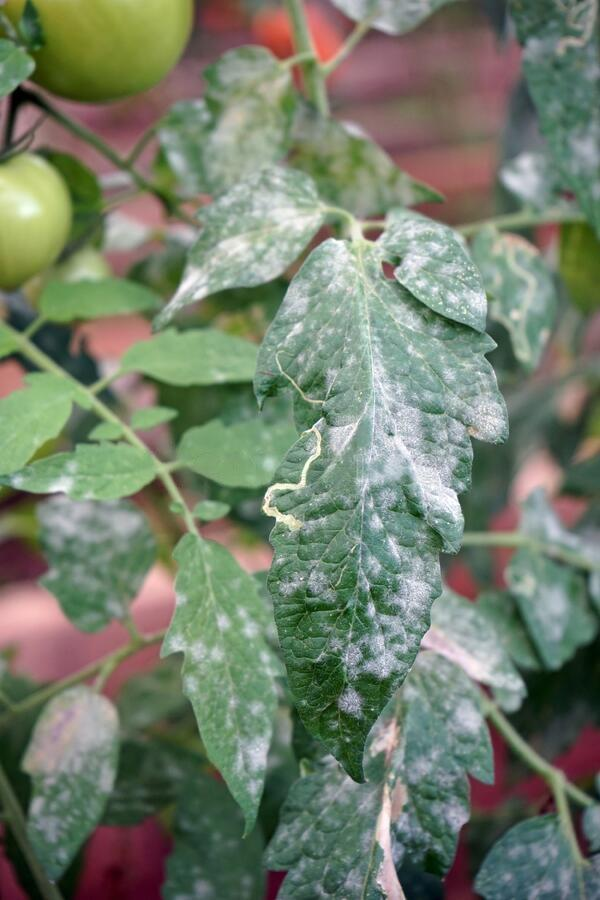Leaf_Miner: (260, 338, 339, 541)
